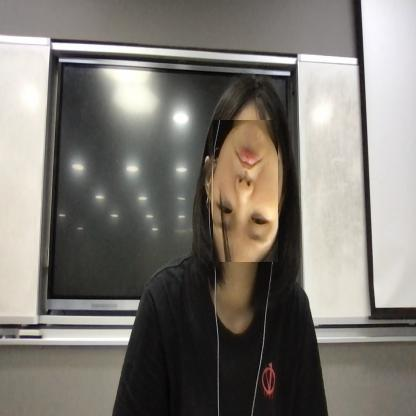sad: (213, 120, 279, 263)
